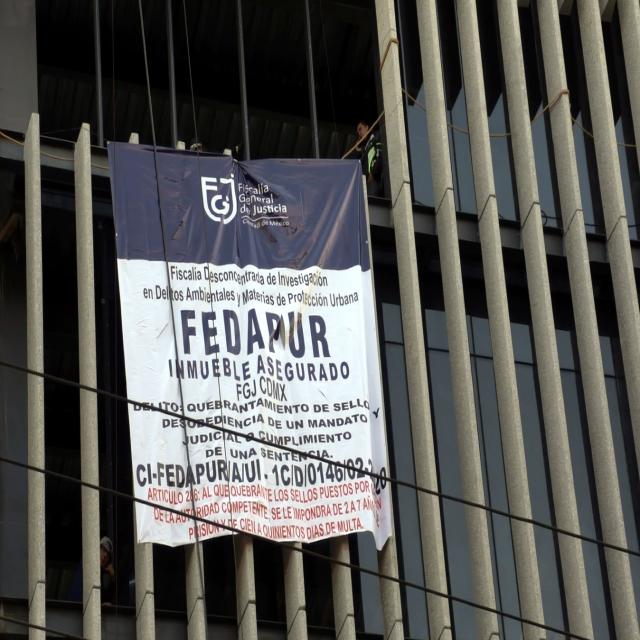stamps: (109, 146, 392, 545)
